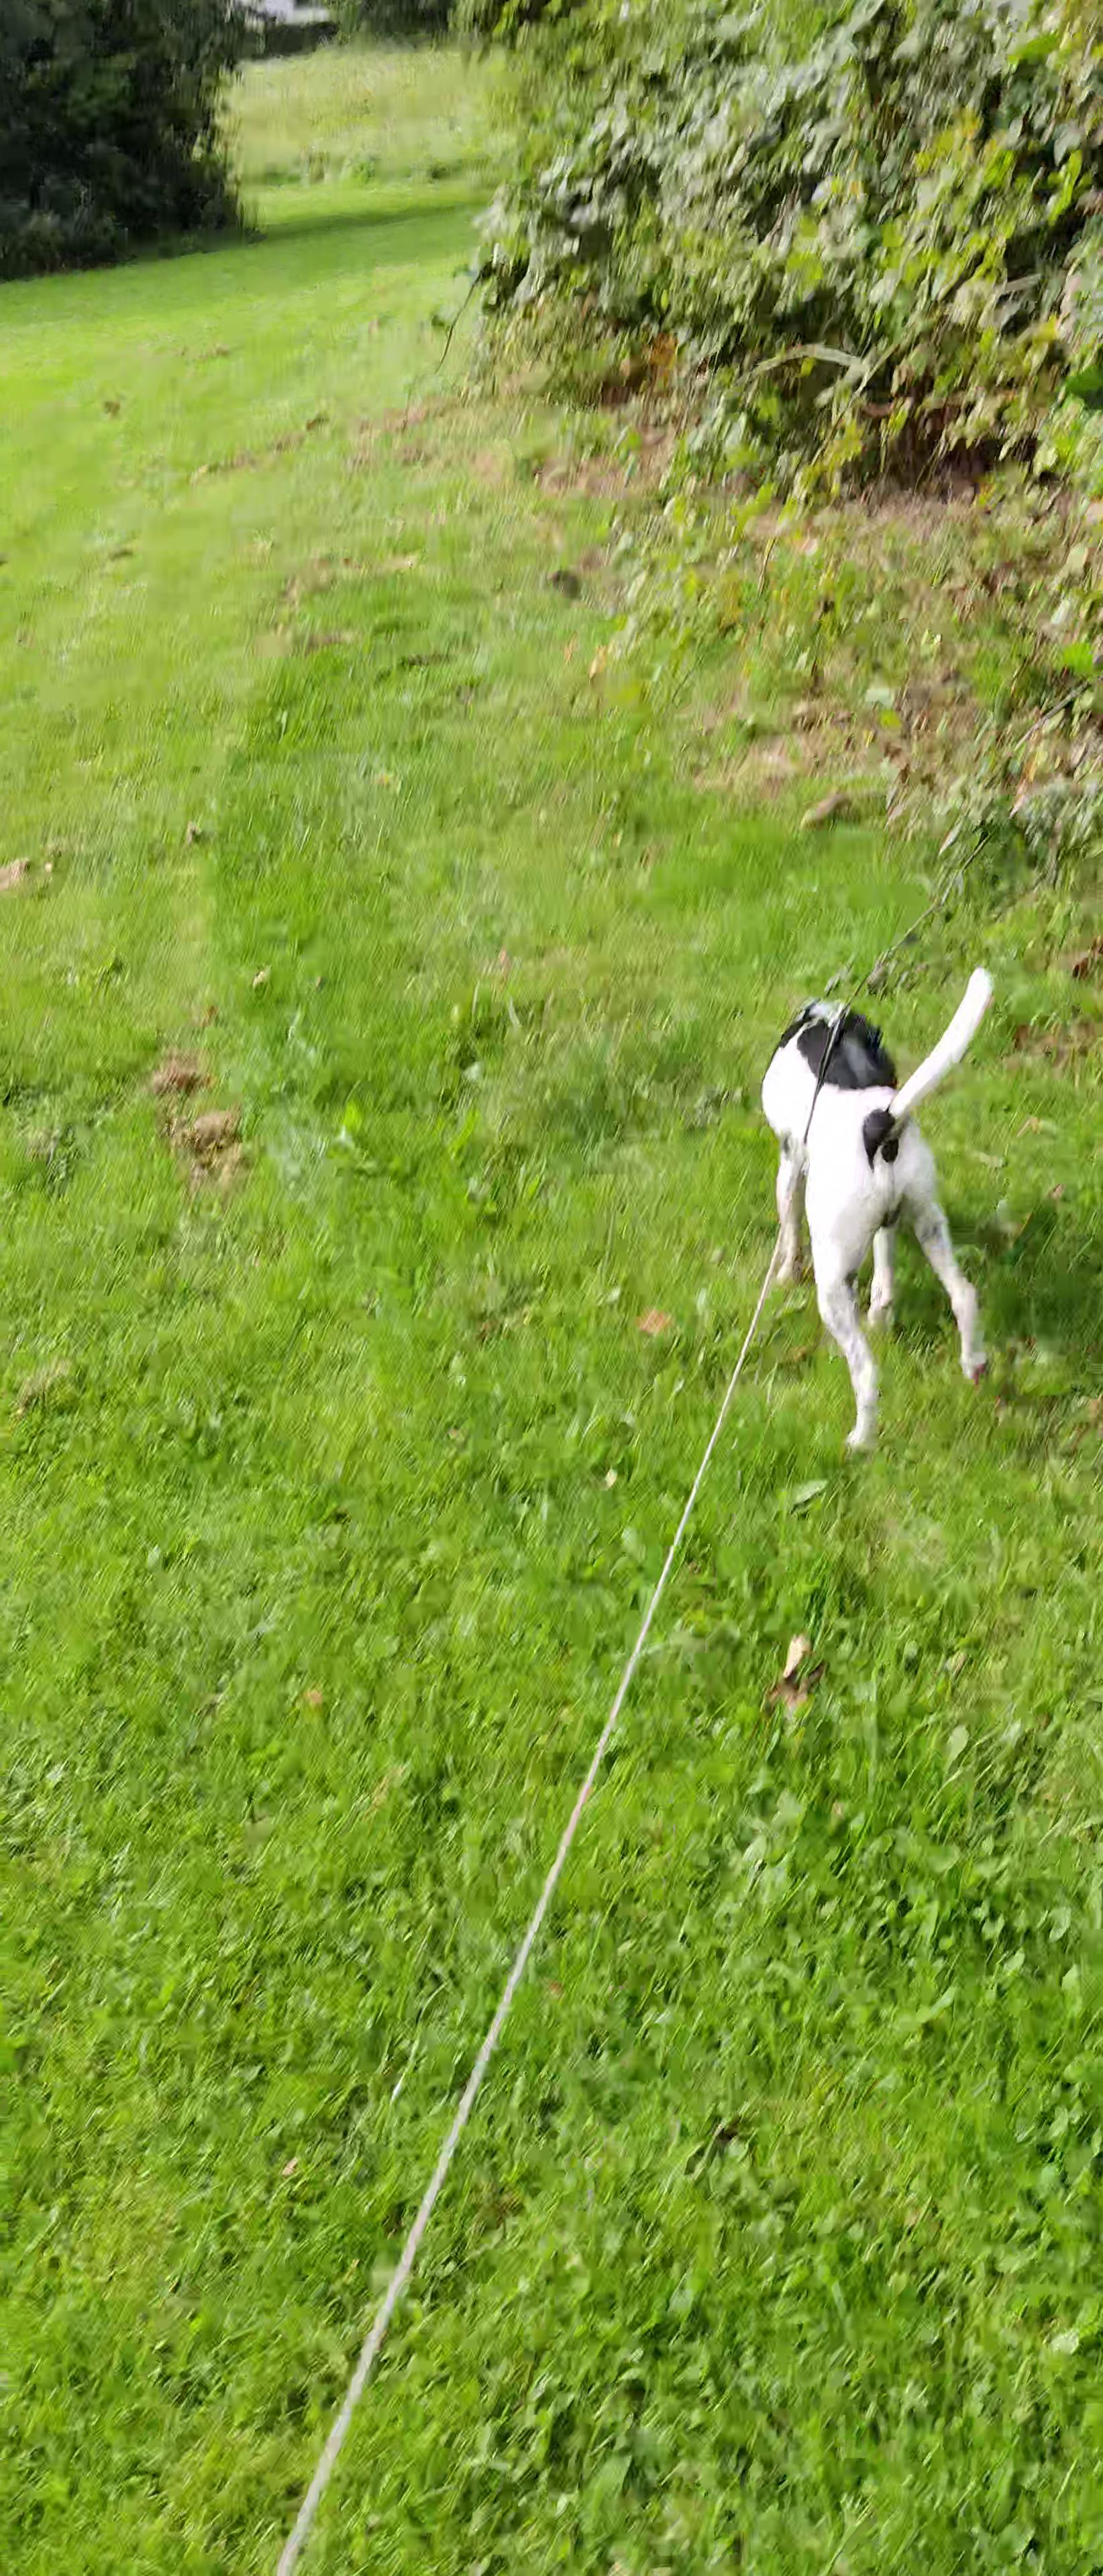Dog: (750, 954, 1008, 1470)
